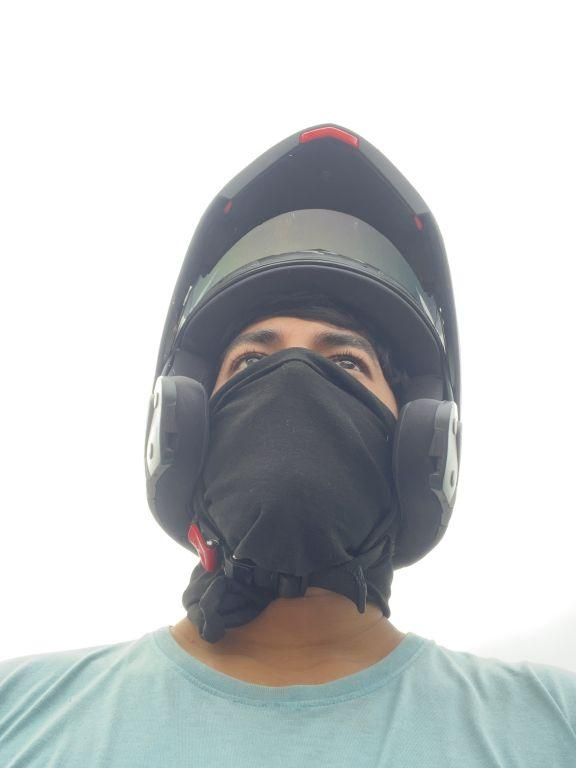helmet: (130, 102, 472, 602)
